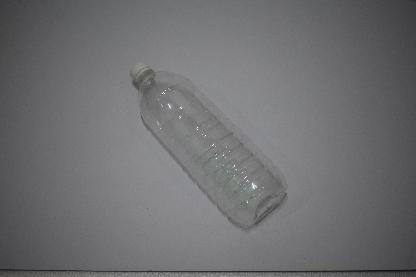Plastic Bottle: (130, 62, 288, 228)
